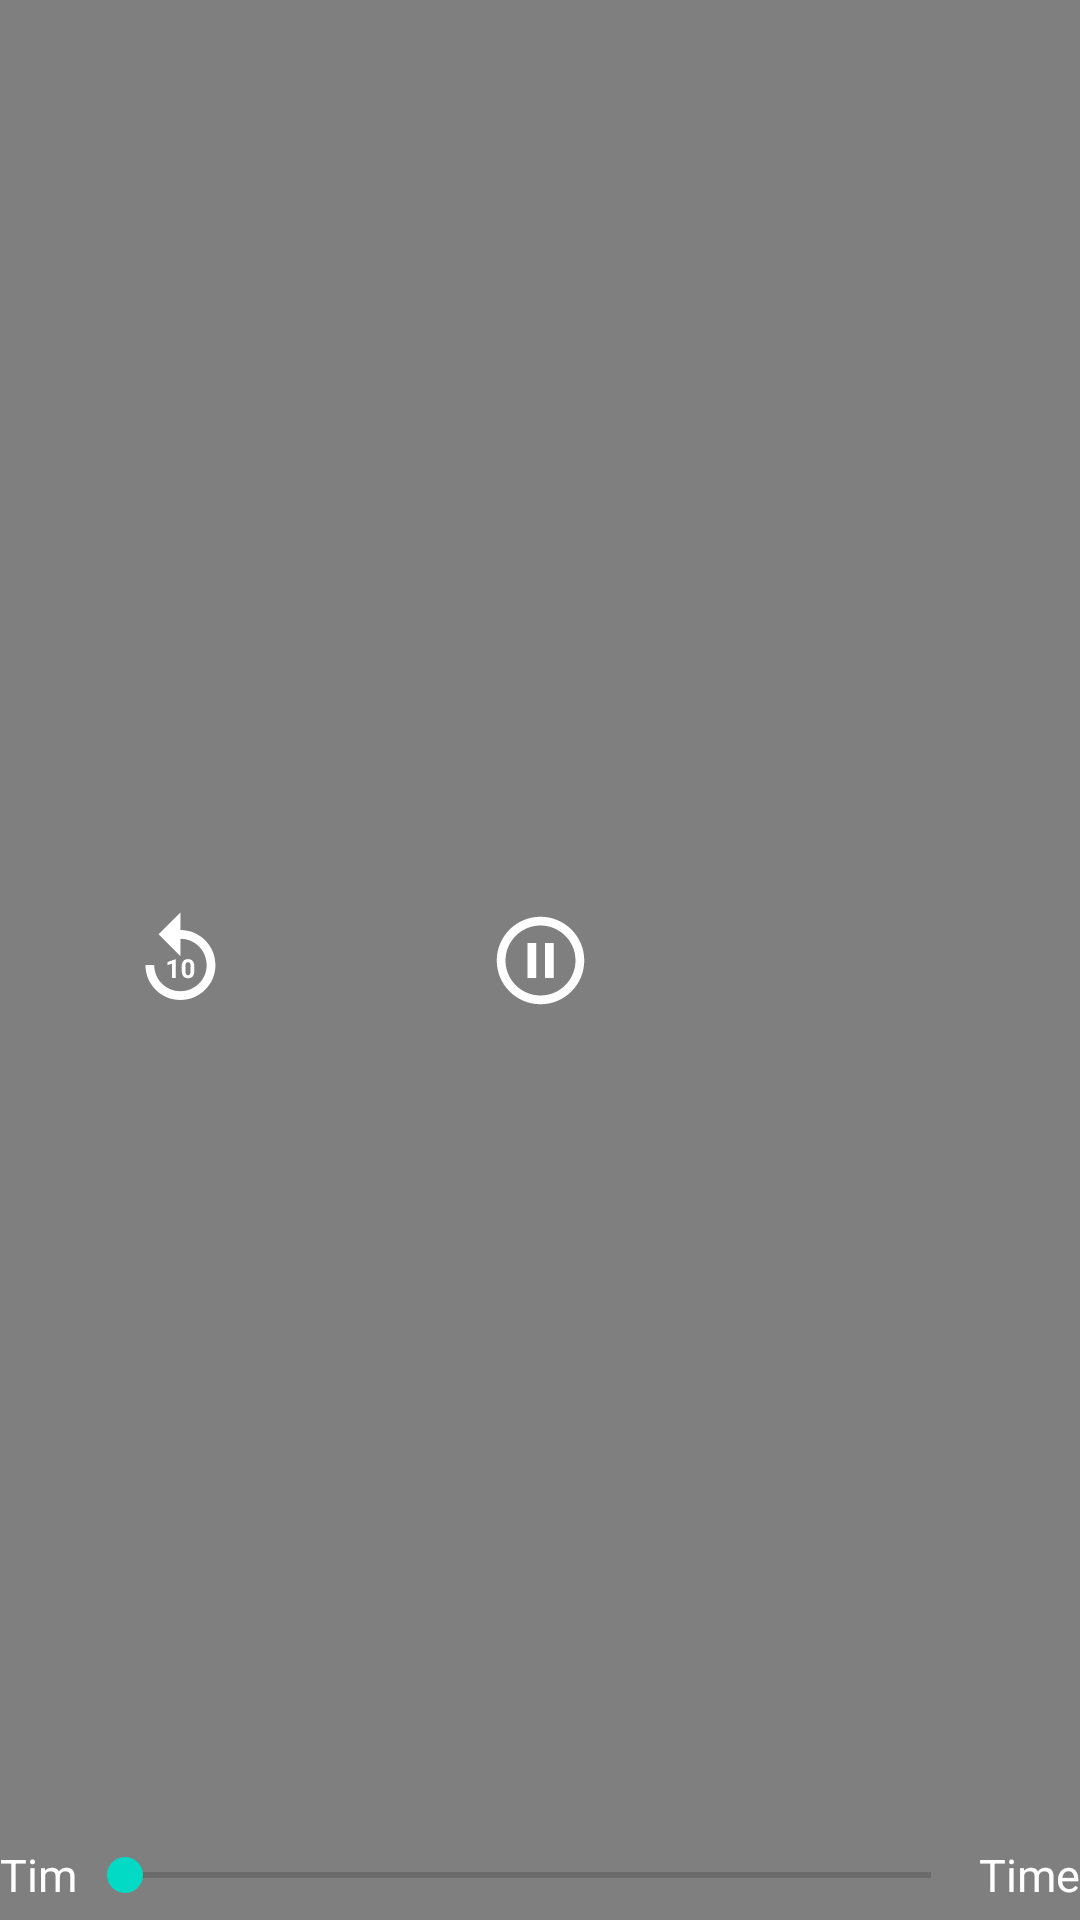

Icons on this 1080px x 1920px Android screen, each with its box as box=[x1, y1, x2, y2]:
back: box=[145, 913, 216, 1000]
pause: box=[496, 916, 585, 1005]
